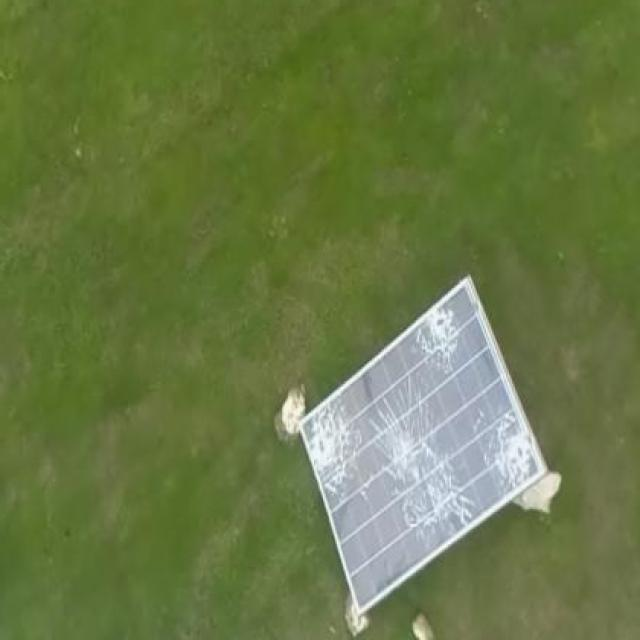cracked: (284, 273, 540, 608)
